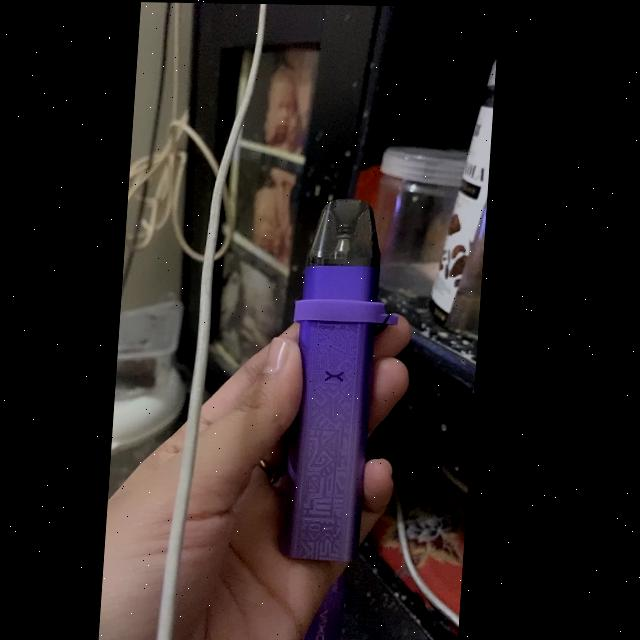vape: (282, 196, 400, 564)
